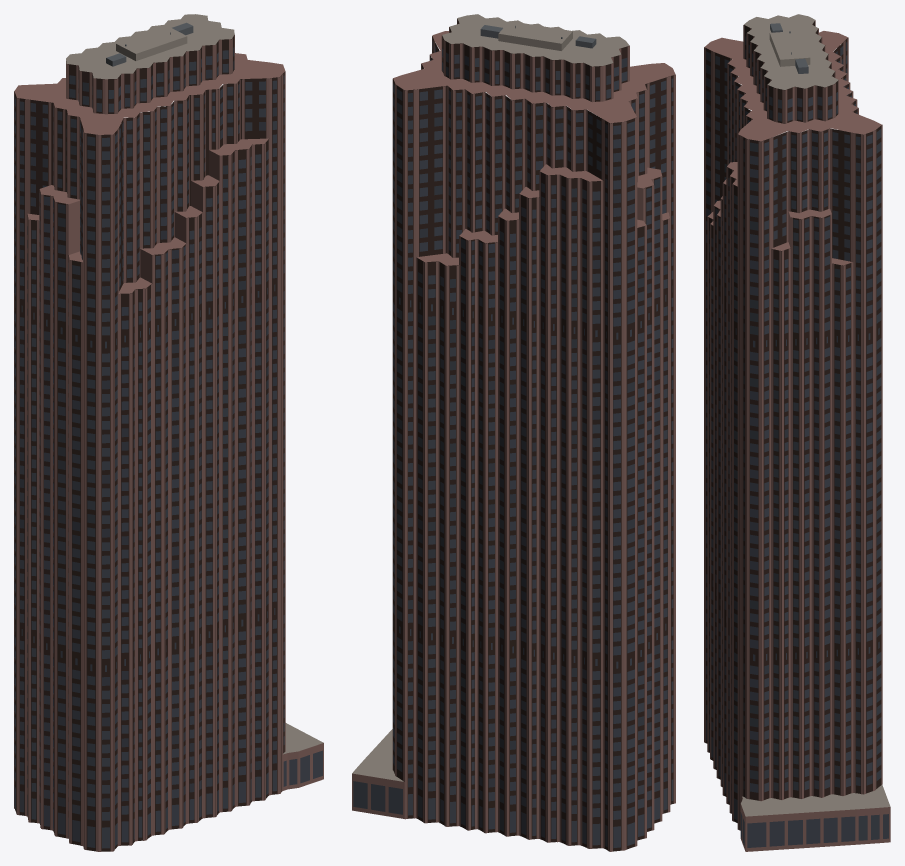
File: 555-california-street-near.glb
The picture shows the model from 3 angles, left to right: view 1: azimuth 30°, elevation 25°; view 2: azimuth 150°, elevation 25°; view 3: azimuth 270°, elevation 25°; orthographic projection. The views are drawn at different scales.
Parts seen in each view (by area): view 1: 555-california-street-0-granite, 555-california-street-0-spandrel, 555-california-street-0-glass, 555-california-street-0-glow, 555-california-street-0-roof; view 2: 555-california-street-0-granite, 555-california-street-0-spandrel, 555-california-street-0-glass, 555-california-street-0-glow, 555-california-street-0-roof; view 3: 555-california-street-0-granite, 555-california-street-0-spandrel, 555-california-street-0-glass, 555-california-street-0-glow, 555-california-street-0-roof.
Part boxes in pixels (x1,y1,x2,y2): 555-california-street-0-granite: [14, 35, 323, 851]; 555-california-street-0-spandrel: [14, 35, 284, 851]; 555-california-street-0-glass: [14, 47, 322, 848]; 555-california-street-0-glow: [14, 60, 284, 820]; 555-california-street-0-roof: [66, 14, 323, 754]; 555-california-street-0-granite: [352, 19, 675, 851]; 555-california-street-0-spandrel: [393, 19, 673, 851]; 555-california-street-0-glass: [353, 40, 673, 848]; 555-california-street-0-glow: [393, 50, 673, 816]; 555-california-street-0-roof: [352, 14, 629, 781]; 555-california-street-0-granite: [704, 20, 890, 851]; 555-california-street-0-spandrel: [706, 21, 881, 829]; 555-california-street-0-glass: [706, 36, 888, 847]; 555-california-street-0-glow: [706, 42, 881, 790]; 555-california-street-0-roof: [741, 14, 890, 816].
Bounding box in the file's own units: 88.08 × 240 × 55.04.
